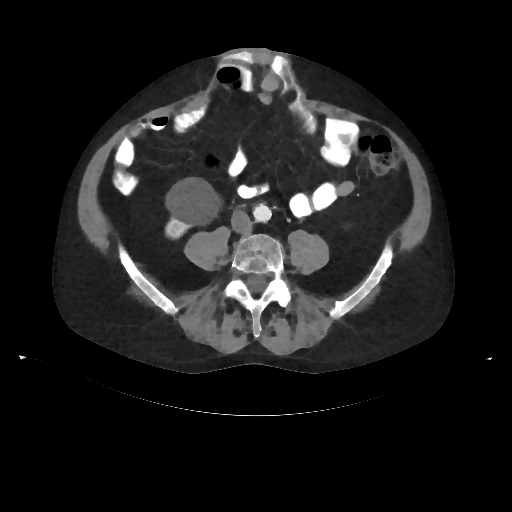Lesion: (166, 177, 224, 228)
